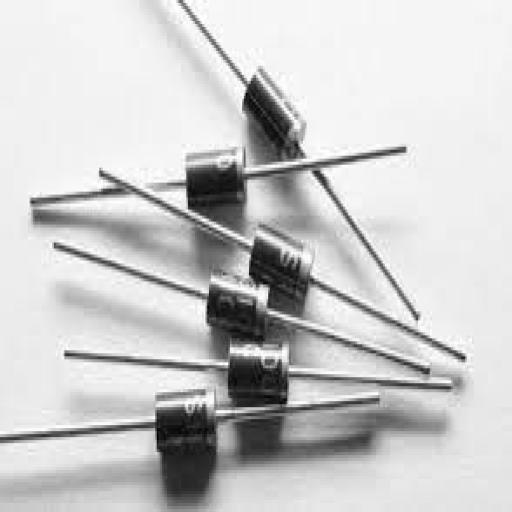DIODE: (231, 48, 334, 184), (191, 246, 291, 344), (175, 138, 265, 222), (139, 383, 234, 460), (243, 209, 331, 291), (216, 334, 302, 405)
